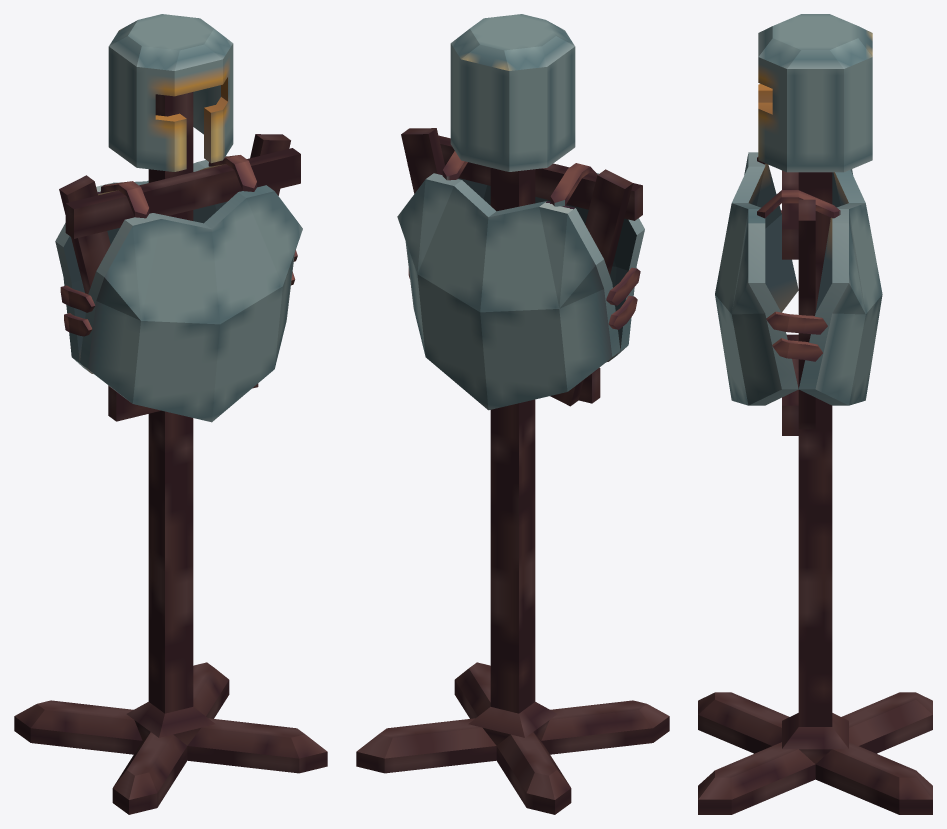
Rendered from ArmorStand.fbx.
3 renders of one model, left to right at view 1: azimuth 30°, elevation 25°; view 2: azimuth 150°, elevation 25°; view 3: azimuth 270°, elevation 25°, orthographic. The views are drawn at different scales.
Parts seen in each view (by area): view 1: Stand, ChestPlate, Helmet; view 2: Stand, ChestPlate, Helmet; view 3: Stand, ChestPlate, Helmet.
Part boxes in pixels (box(x1,y1,x2,y2)): Stand: box(14, 92, 327, 814); ChestPlate: box(55, 155, 302, 422); Helmet: box(108, 14, 233, 171); Stand: box(356, 128, 669, 814); ChestPlate: box(397, 151, 644, 410); Helmet: box(450, 14, 575, 171); Stand: box(698, 170, 932, 814); ChestPlate: box(715, 152, 882, 405); Helmet: box(758, 14, 872, 172).
Bounding box in the file's own units: 1 × 0.875 × 3.02.
